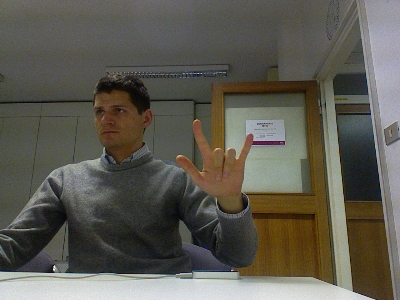我爱你: (173, 118, 253, 200)
